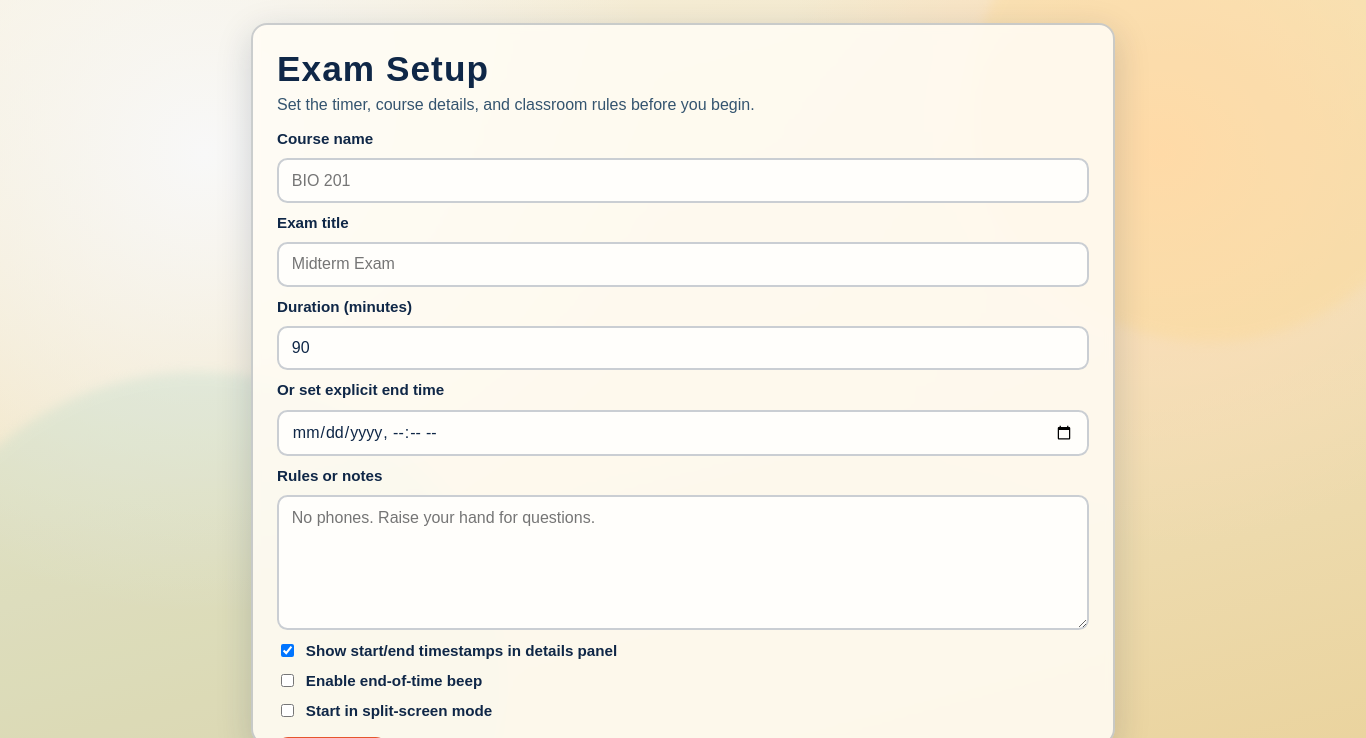
Test: App › requires confirmation before resetting an active session
Type "HIST 220" into the field labelled "Course name" at point(683, 181), box [277,158,1089,203]
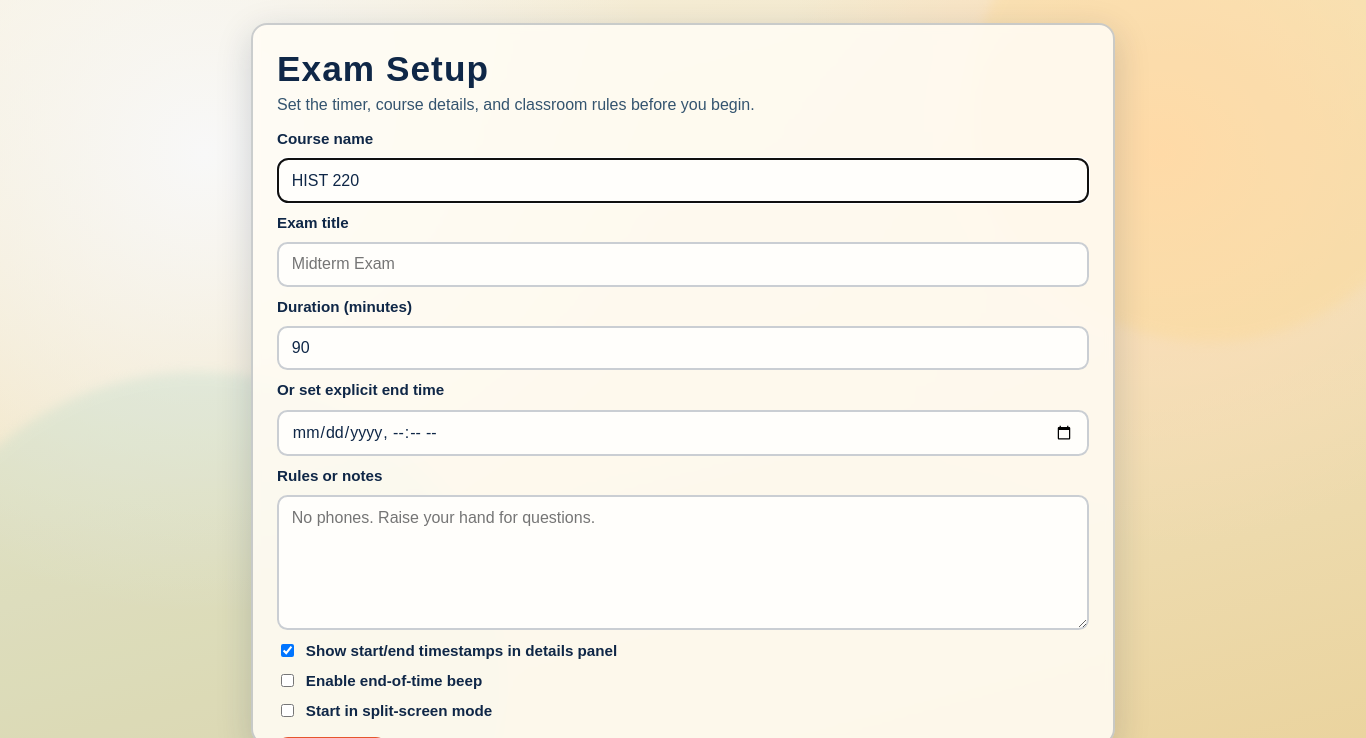
Type "Unit Test 1" into the field labelled "Exam title" at point(683, 264), box [277,242,1089,287]
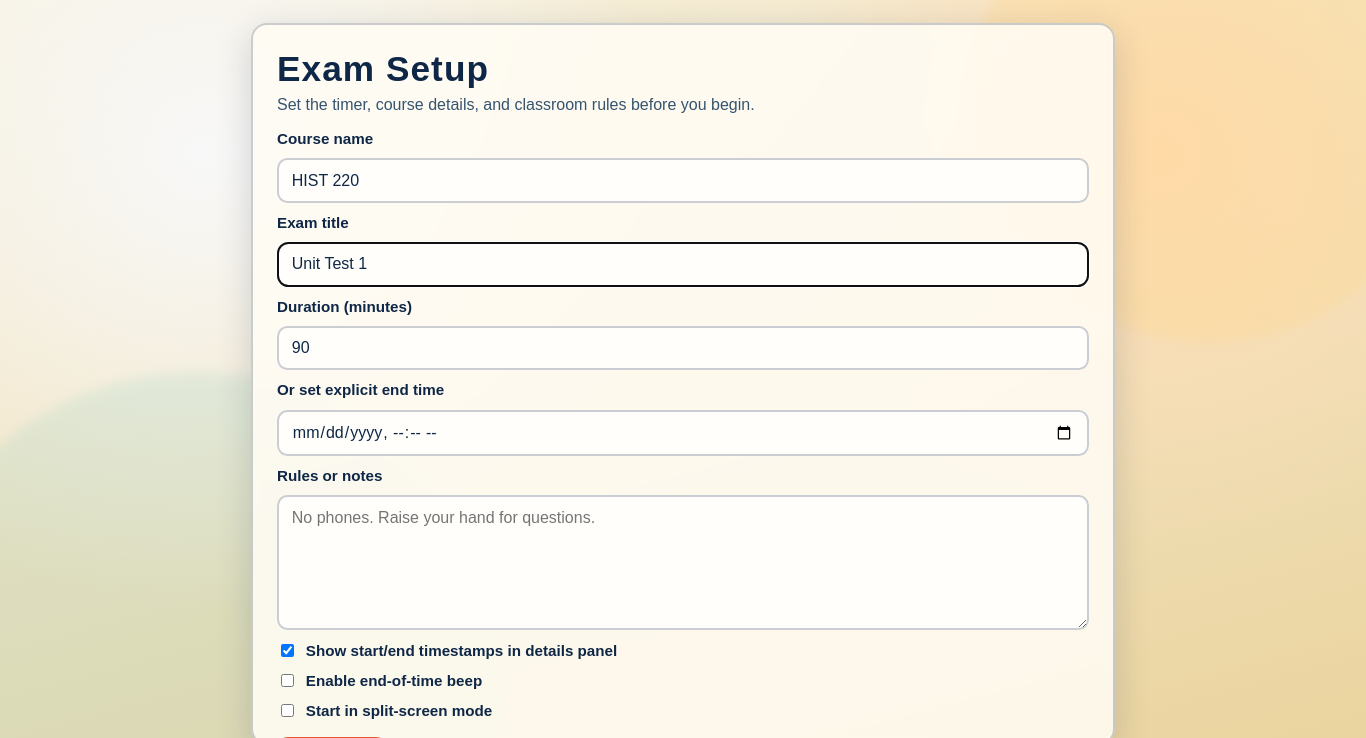
Replace the text in the number field labelled "Duration (minutes)" with "60" at point(683, 348), box [277,326,1089,370]
(page scrolled)
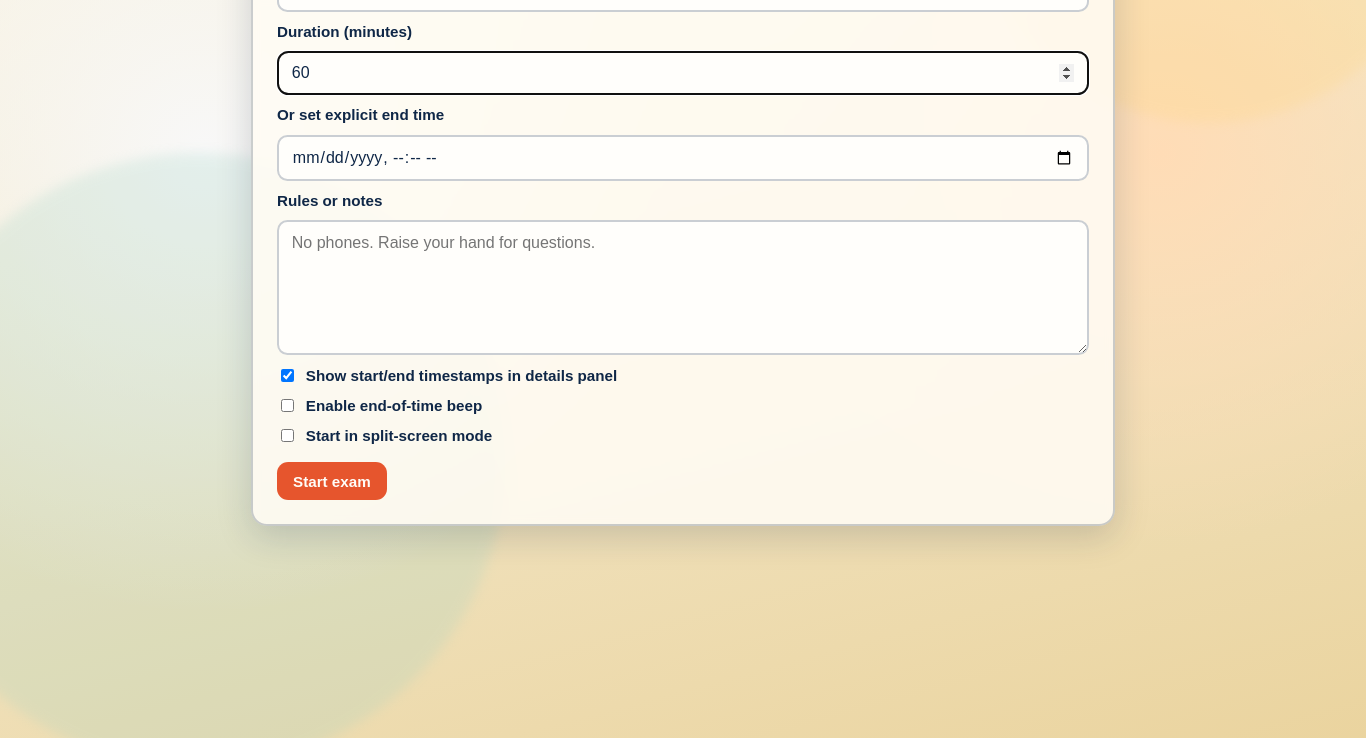
Click the button "Start exam" at point(332, 481), box [277,462,387,500]
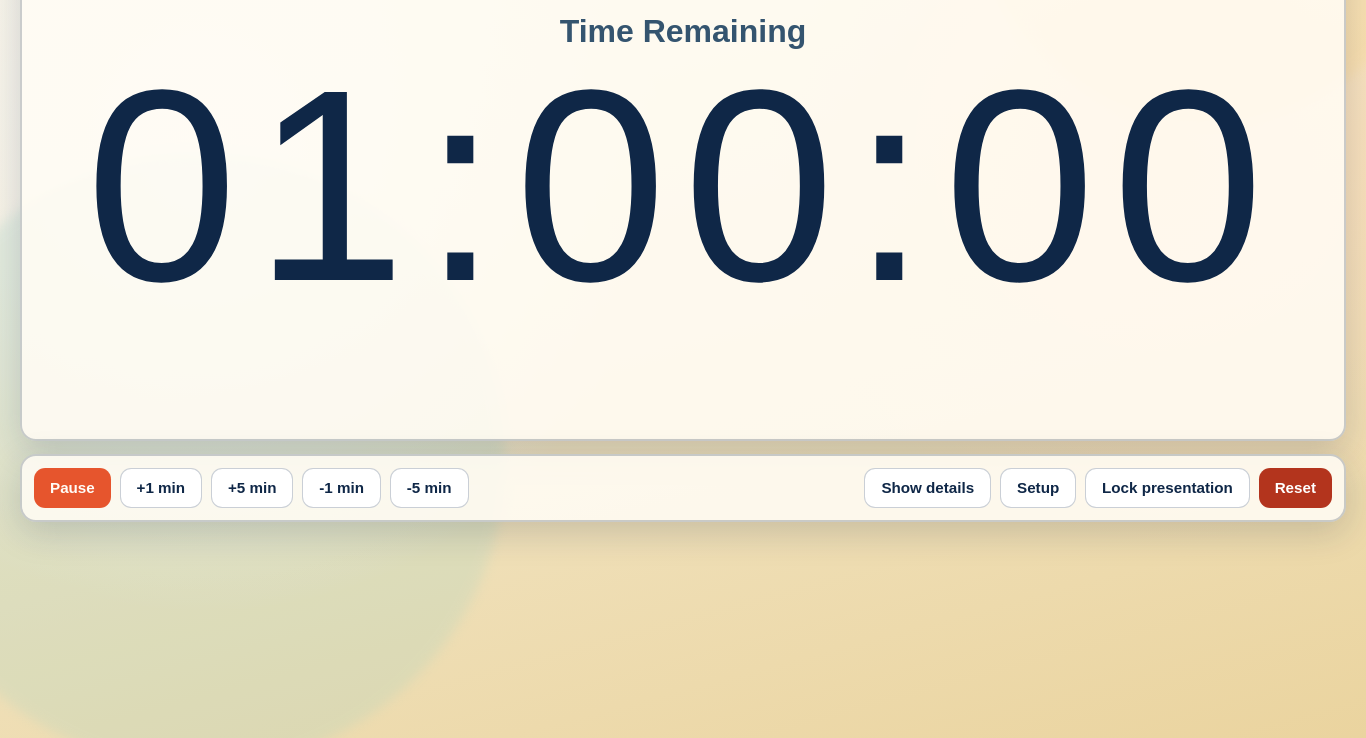
Click the button "Reset" at point(1295, 488), box [1259,468,1332,508]
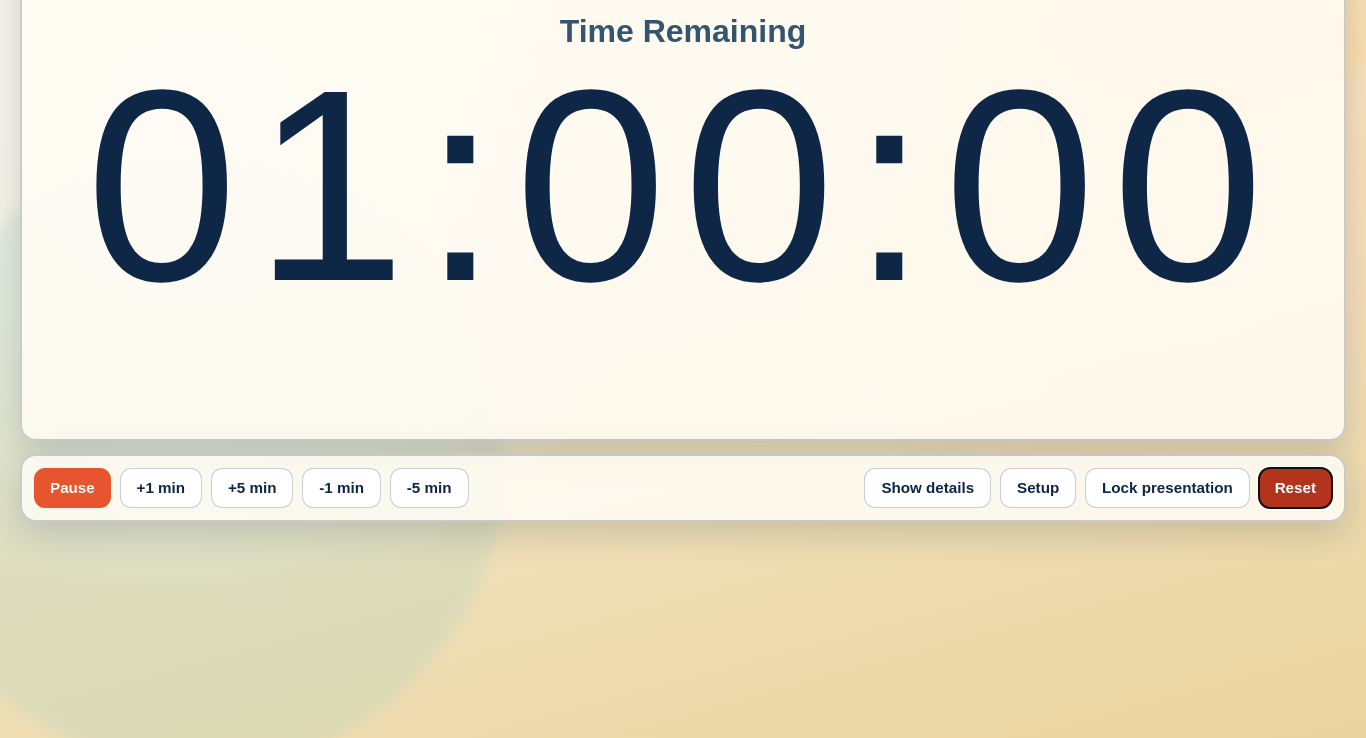
Result: the button "Pause" is shown at [34,468,111,508]
Click the button "Reset" at point(1295, 488), box [1259,468,1332,508]
(page scrolled)
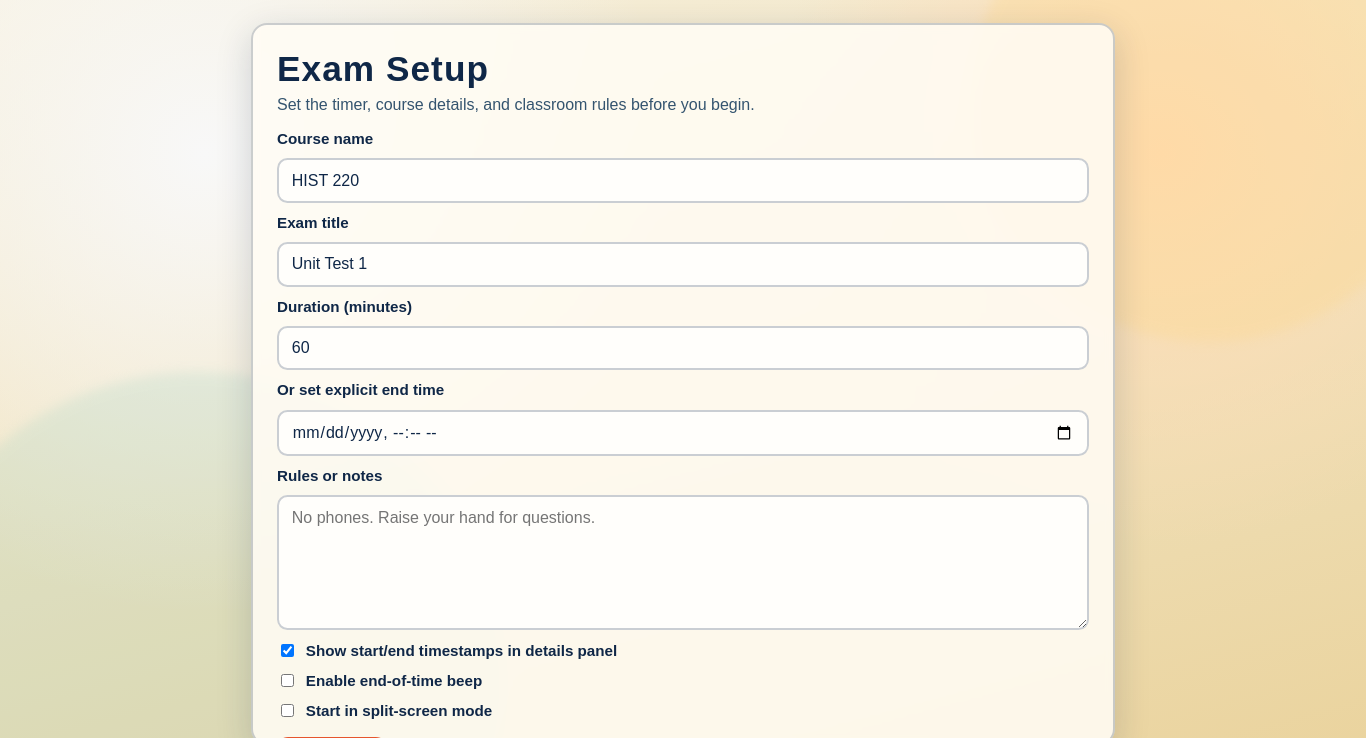
Result: the heading "Exam Setup" is shown at [277,49,489,88]
Result: the button "Pause" is gone
